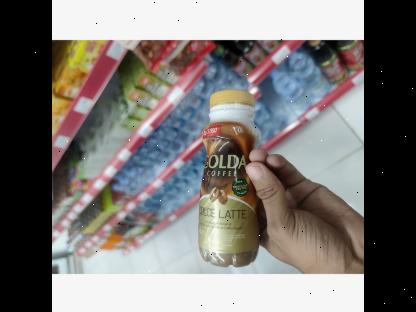Plastic Bottle: (180, 78, 280, 272)
